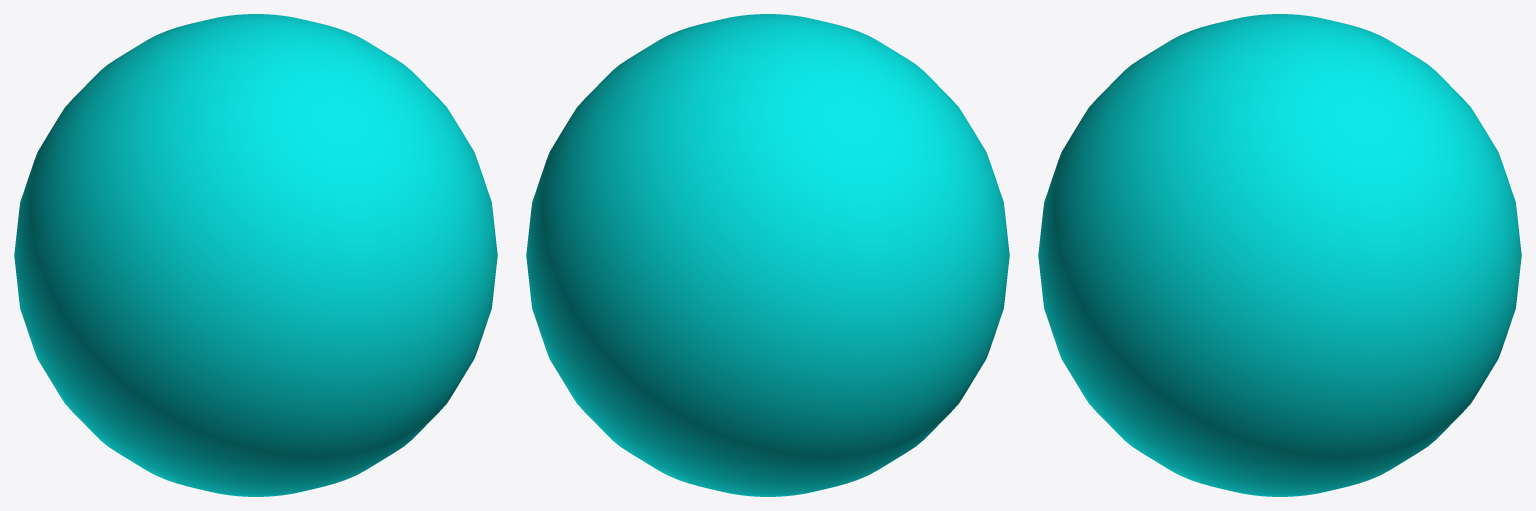
The model's file is turkis_orb(1).fbx.
3 renders of one model, left to right at view 1: azimuth 30°, elevation 25°; view 2: azimuth 150°, elevation 25°; view 3: azimuth 270°, elevation 25°, orthographic.
Visible parts, largest first — view 1: Sphere; view 2: Sphere; view 3: Sphere.
Part boxes in pixels (left/top/right/bottom): Sphere: left=14, top=14, right=497, bottom=496; Sphere: left=526, top=14, right=1009, bottom=496; Sphere: left=1038, top=14, right=1521, bottom=496.
Size of the model in its own units: 100 by 100 by 100.
